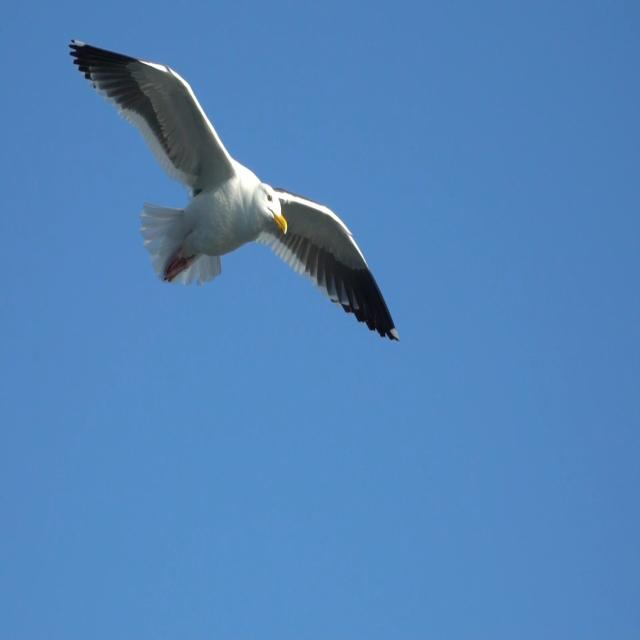bird: (61, 31, 406, 373)
